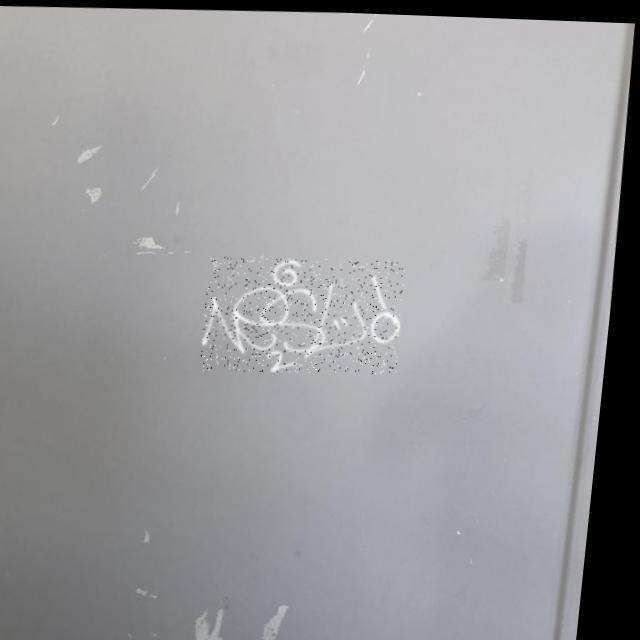-: (205, 251, 413, 374)
